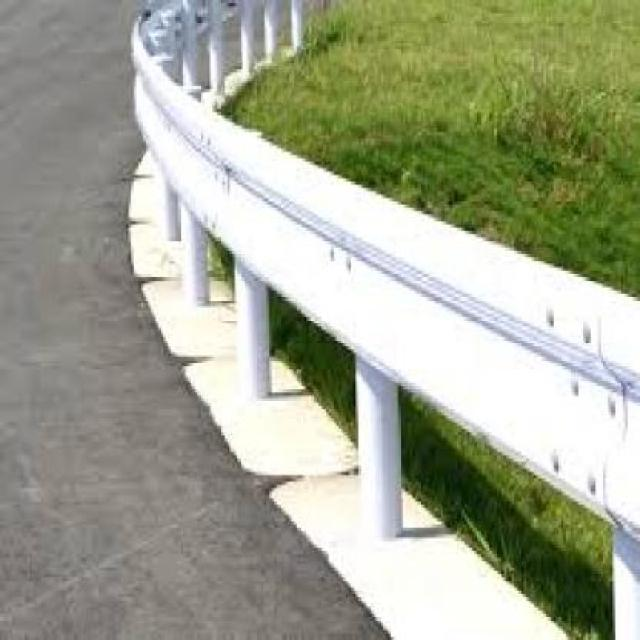Guard rail: (129, 2, 640, 636)
